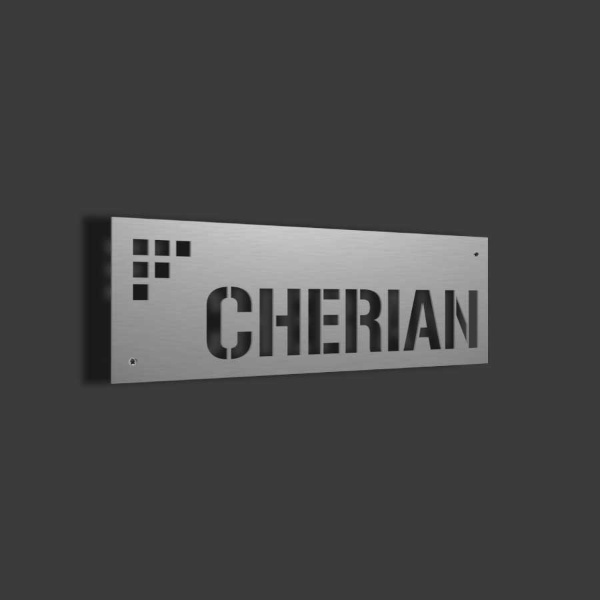text: (465, 285, 481, 362), (209, 285, 224, 362), (225, 285, 240, 362), (241, 285, 256, 362), (257, 285, 272, 362), (273, 285, 288, 362), (289, 285, 304, 362), (305, 285, 320, 362), (321, 285, 336, 362), (337, 285, 352, 362), (353, 285, 368, 362), (369, 285, 384, 362), (385, 285, 400, 362), (401, 285, 416, 362), (417, 285, 432, 362), (433, 285, 448, 362), (449, 285, 464, 362), (205, 285, 208, 362)
